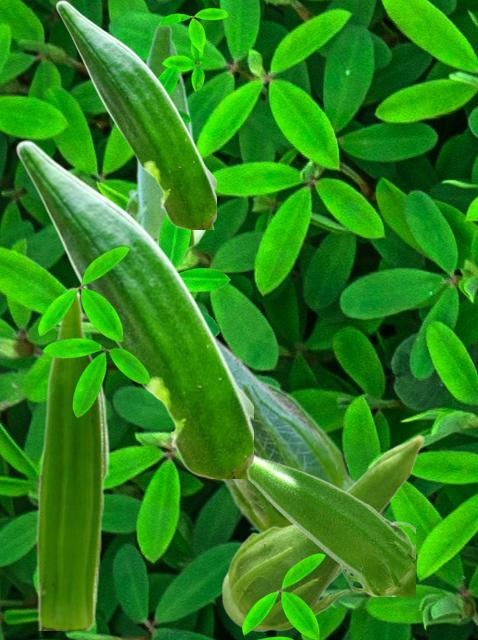okra: (15, 140, 252, 477), (221, 434, 424, 631), (55, 0, 215, 228), (216, 337, 355, 532), (36, 286, 109, 629), (245, 454, 414, 595), (125, 24, 206, 250)
